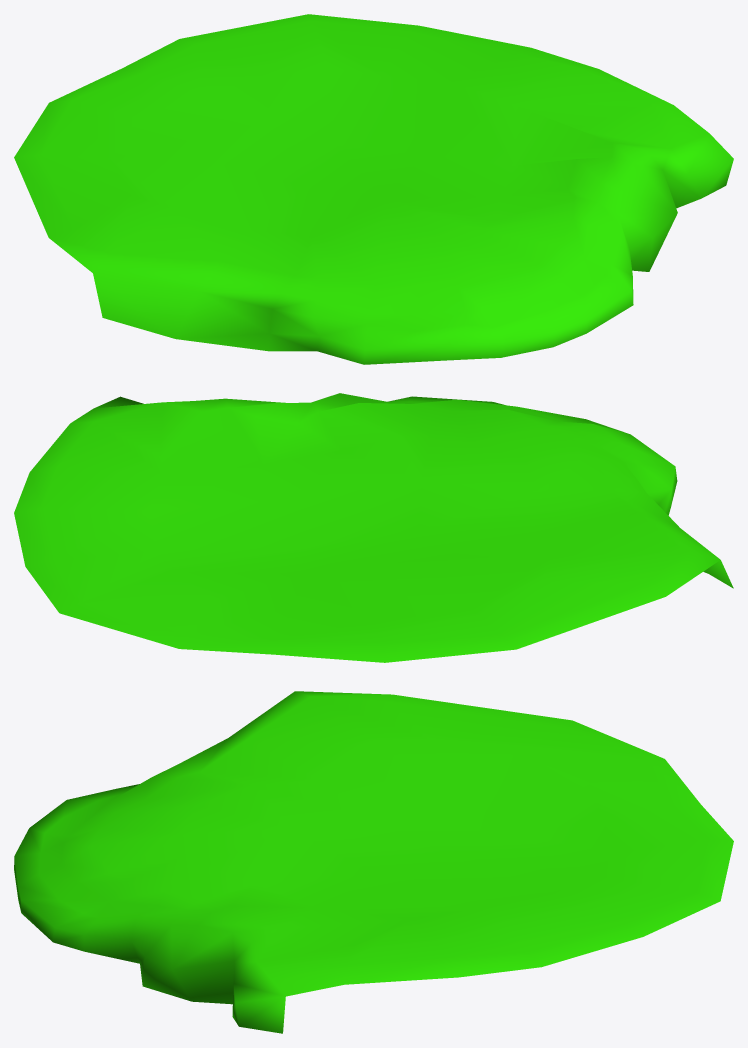
The model's file is Floor_Break_04_Collider.fbx.
3 renders of one model, top to bottom at view 1: azimuth 30°, elevation 25°; view 2: azimuth 150°, elevation 25°; view 3: azimuth 270°, elevation 25°, orthographic. The views are drawn at different scales.
Parts seen in each view (by area): view 1: Floor_Break_04_Collider; view 2: Floor_Break_04_Collider; view 3: Floor_Break_04_Collider.
Boxes of the visible parts, box(x1,y1,x2,y2) form: Floor_Break_04_Collider: box(14, 14, 733, 364); Floor_Break_04_Collider: box(14, 393, 733, 662); Floor_Break_04_Collider: box(14, 691, 733, 1033).
Size of the model in its own units: 882 by 106 by 895.
